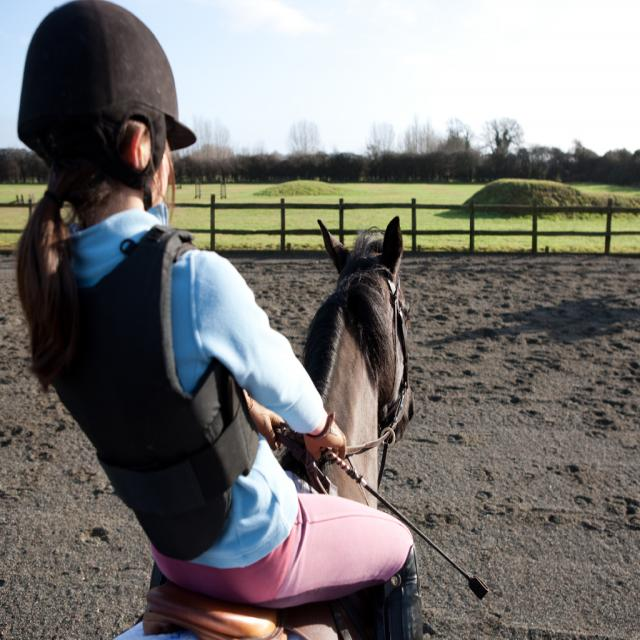Horse: (113, 215, 414, 640)
